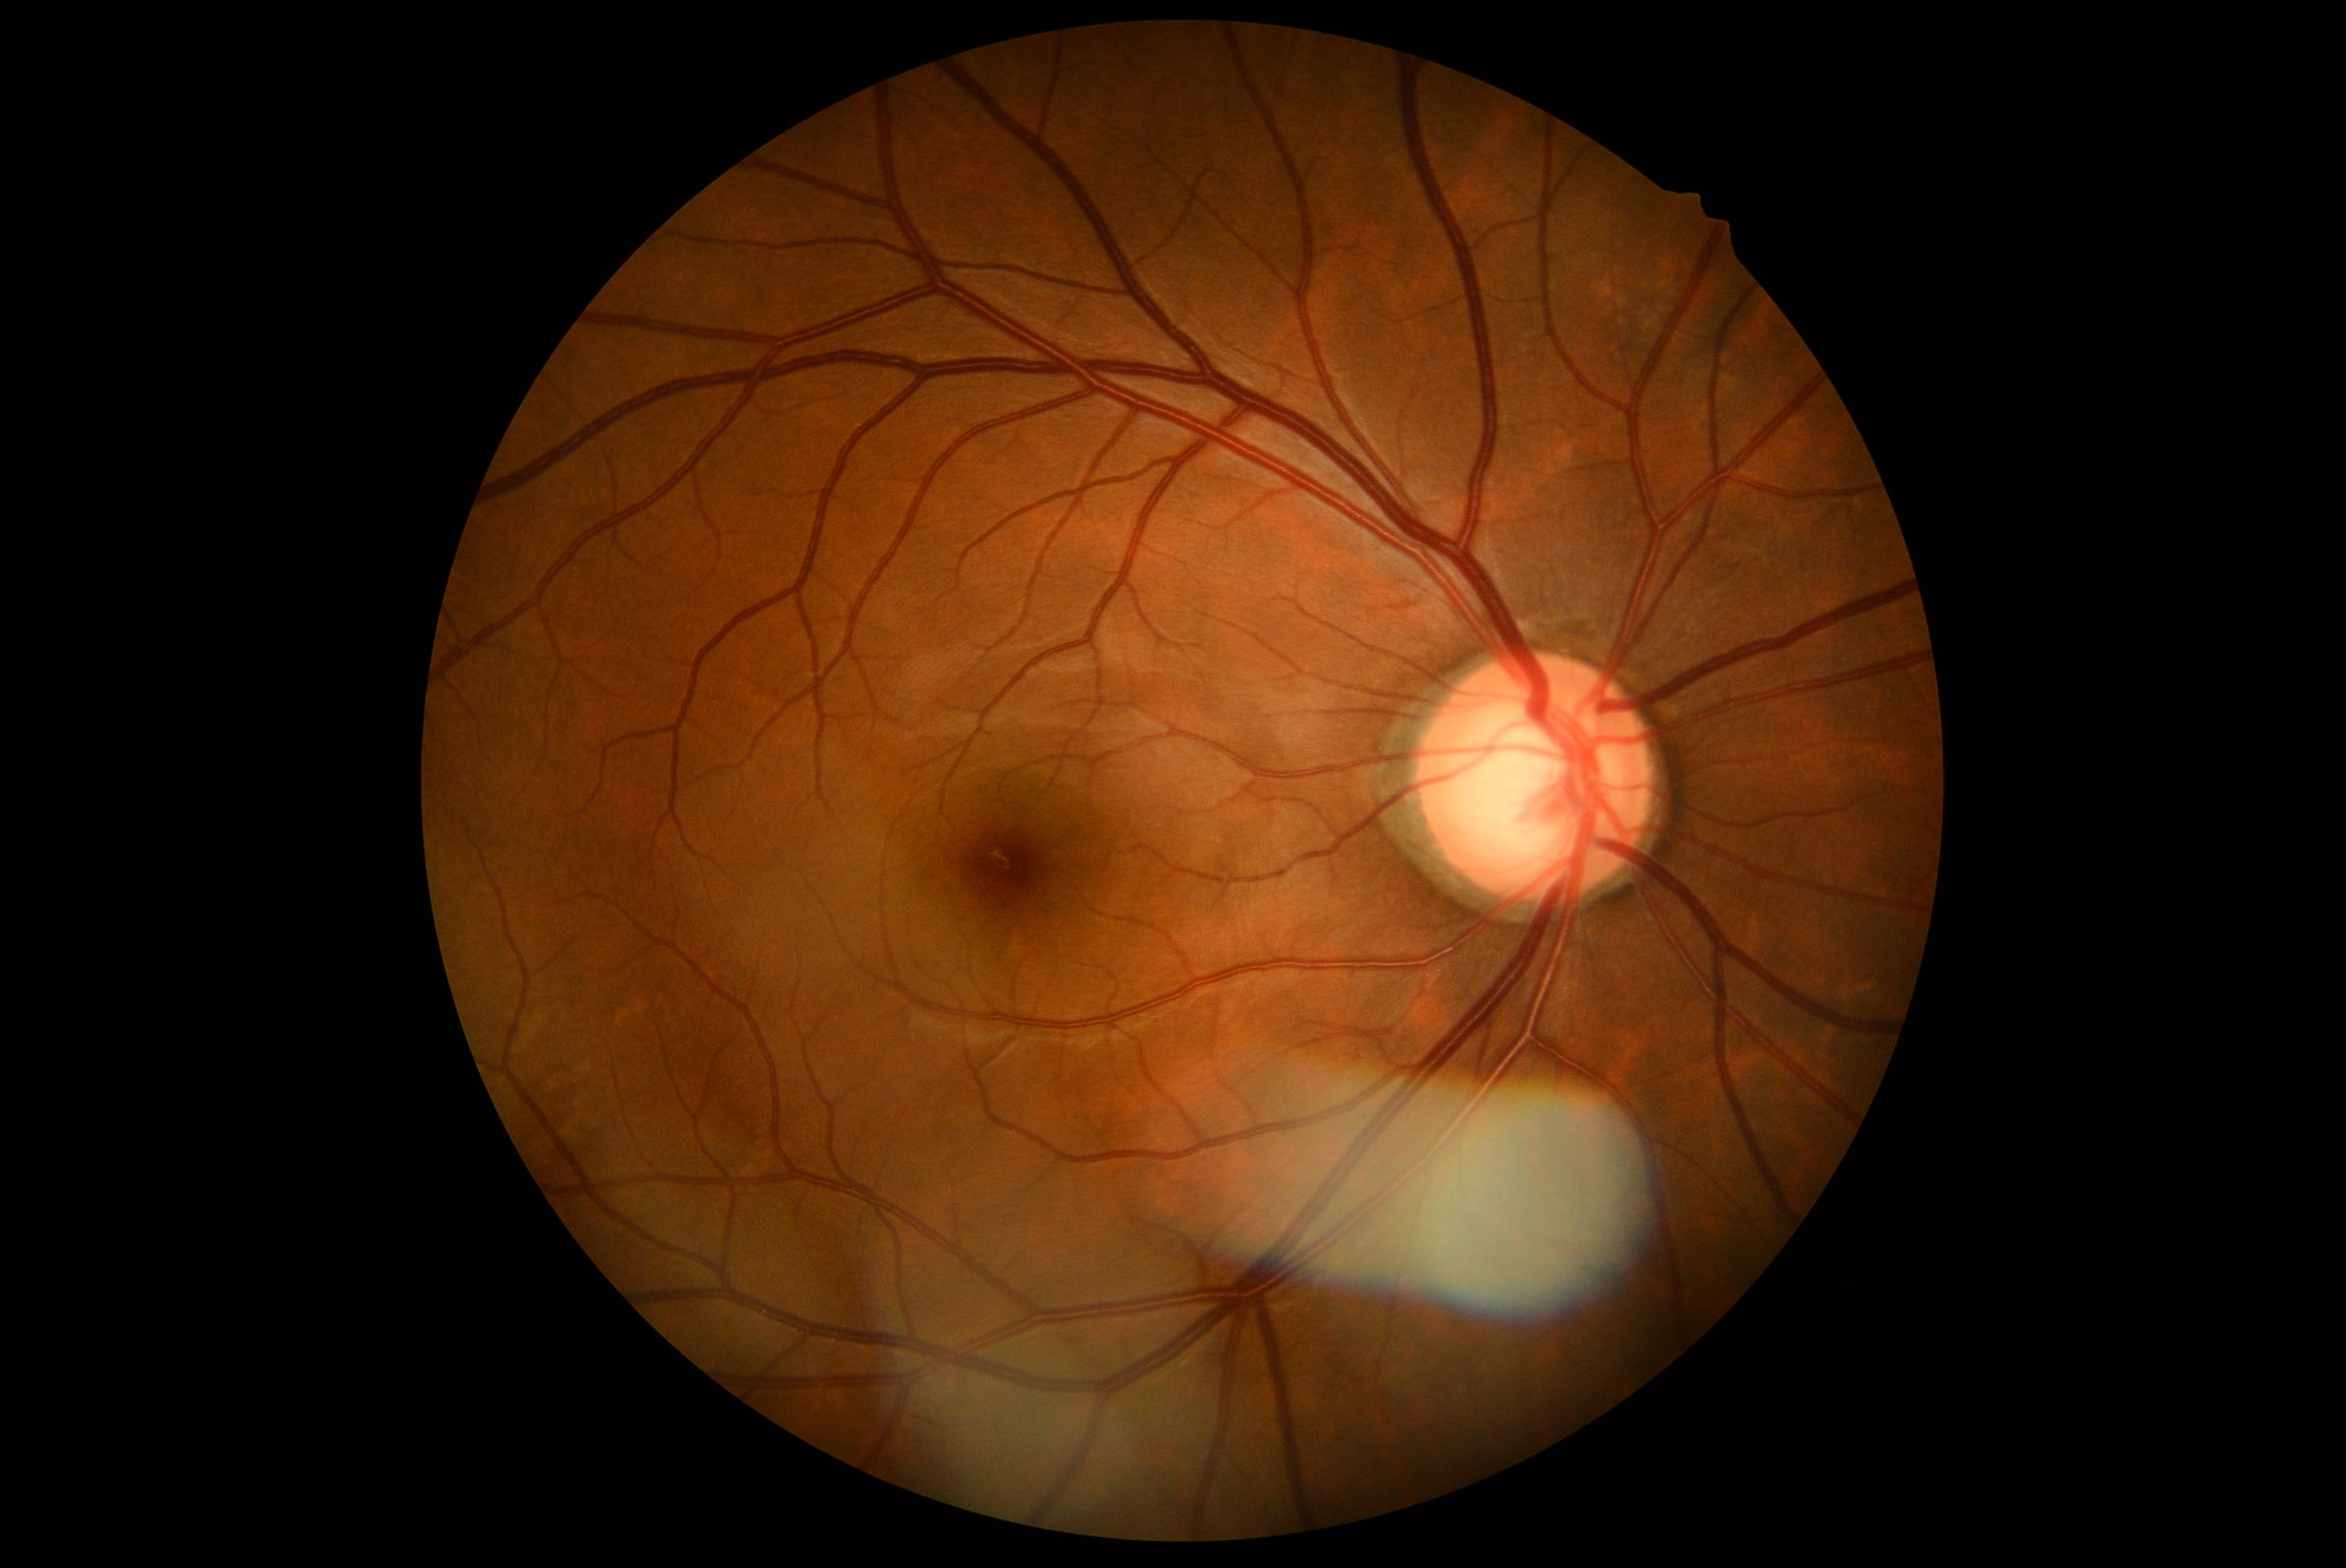Fovea: (920, 777, 1081, 941)
